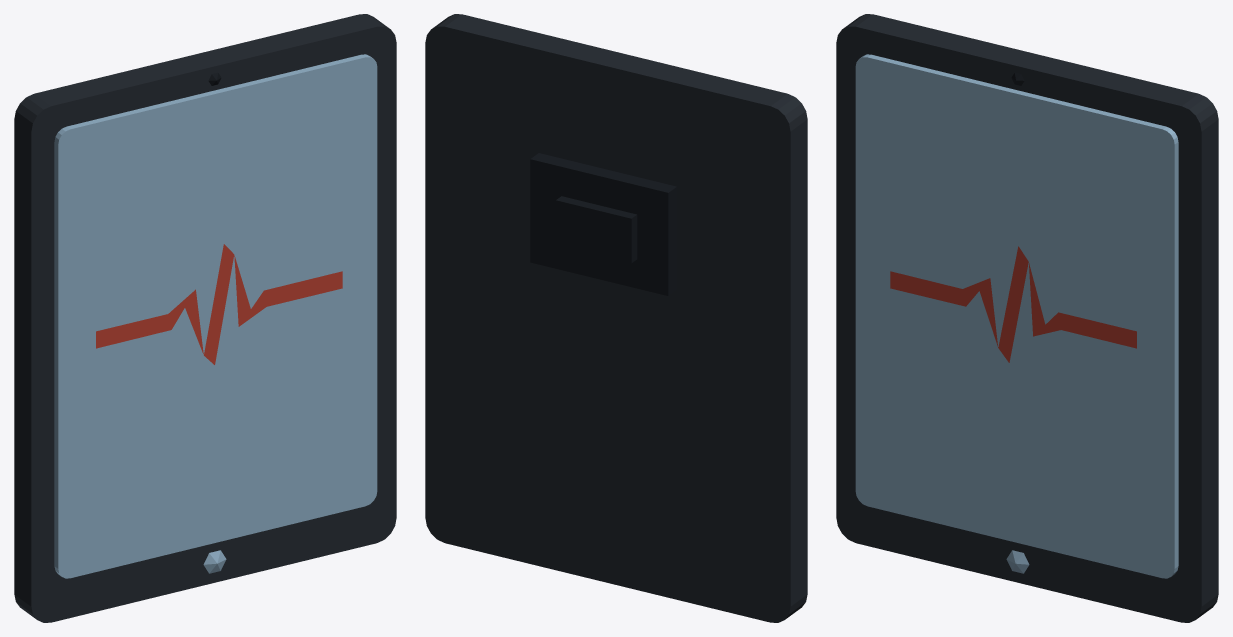
Rendered from patient-chart-tablet-c1edc2.glb.
The picture shows the model from 3 angles, left to right: view 1: azimuth 30°, elevation 25°; view 2: azimuth 150°, elevation 25°; view 3: azimuth 330°, elevation 25°; orthographic projection.
Visible parts, largest first — view 1: patient-chart-tablet; view 2: patient-chart-tablet; view 3: patient-chart-tablet.
Boxes of the visible parts, box(x1,y1,x2,y2) form: patient-chart-tablet: box(14, 14, 396, 622); patient-chart-tablet: box(425, 14, 807, 622); patient-chart-tablet: box(836, 14, 1218, 622).
Bounding box in the file's own units: 0.222 × 0.3 × 0.0385.
